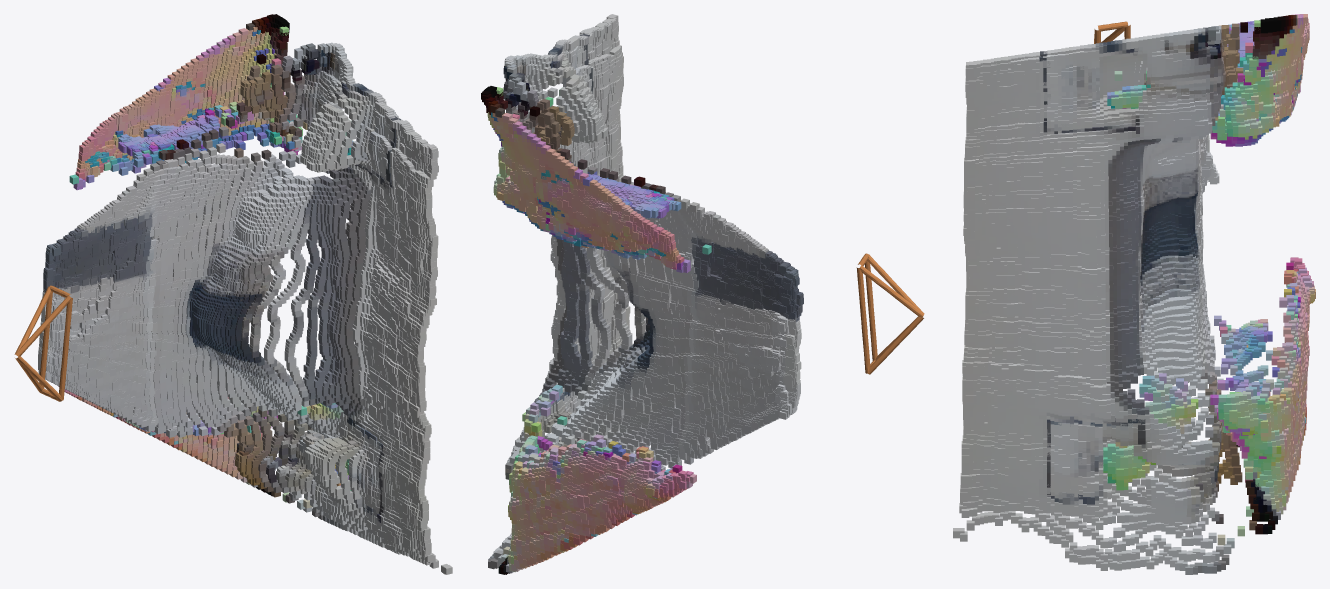
File: pred_1-compressed.glb
The picture shows the model from 3 angles, left to right: view 1: azimuth 30°, elevation 25°; view 2: azimuth 150°, elevation 25°; view 3: azimuth 270°, elevation 25°; orthographic projection. The views are drawn at different scales.
Size of the model in its own units: 3.15 by 3.87 by 2.35.
